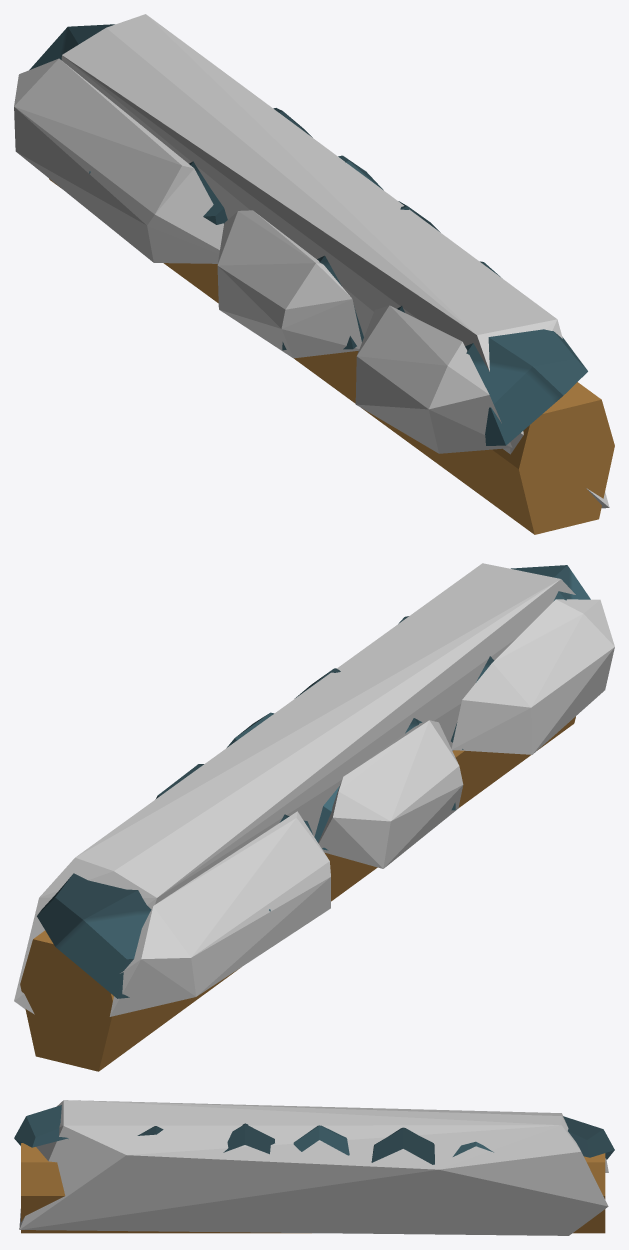
File: SM_Bld_Roof_Trim_02.fbx
The picture shows the model from 3 angles, top to bottom: view 1: azimuth 30°, elevation 25°; view 2: azimuth 150°, elevation 25°; view 3: azimuth 270°, elevation 25°; orthographic projection. The views are drawn at different scales.
Parts seen in each view (by area): view 1: SM_Bld_Roof_Trim_02_ConvexHulls, SM_Bld_Roof_Trim_02; view 2: SM_Bld_Roof_Trim_02_ConvexHulls, SM_Bld_Roof_Trim_02; view 3: SM_Bld_Roof_Trim_02_ConvexHulls, SM_Bld_Roof_Trim_02.
Part boxes in pixels (<box>): SM_Bld_Roof_Trim_02_ConvexHulls: <box>14,14,609,508</box>; SM_Bld_Roof_Trim_02: <box>29,24,614,534</box>; SM_Bld_Roof_Trim_02_ConvexHulls: <box>14,563,614,1016</box>; SM_Bld_Roof_Trim_02: <box>20,565,590,1071</box>; SM_Bld_Roof_Trim_02_ConvexHulls: <box>19,1100,608,1235</box>; SM_Bld_Roof_Trim_02: <box>14,1105,614,1233</box>.
Bounding box in the file's own units: 51.43 × 257 × 51.17.
2 materials, 1 textured.
